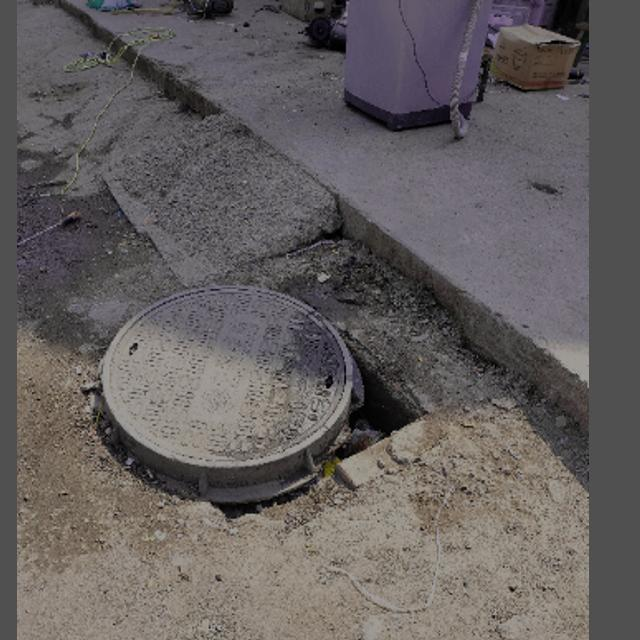circle: (86, 270, 402, 512)
